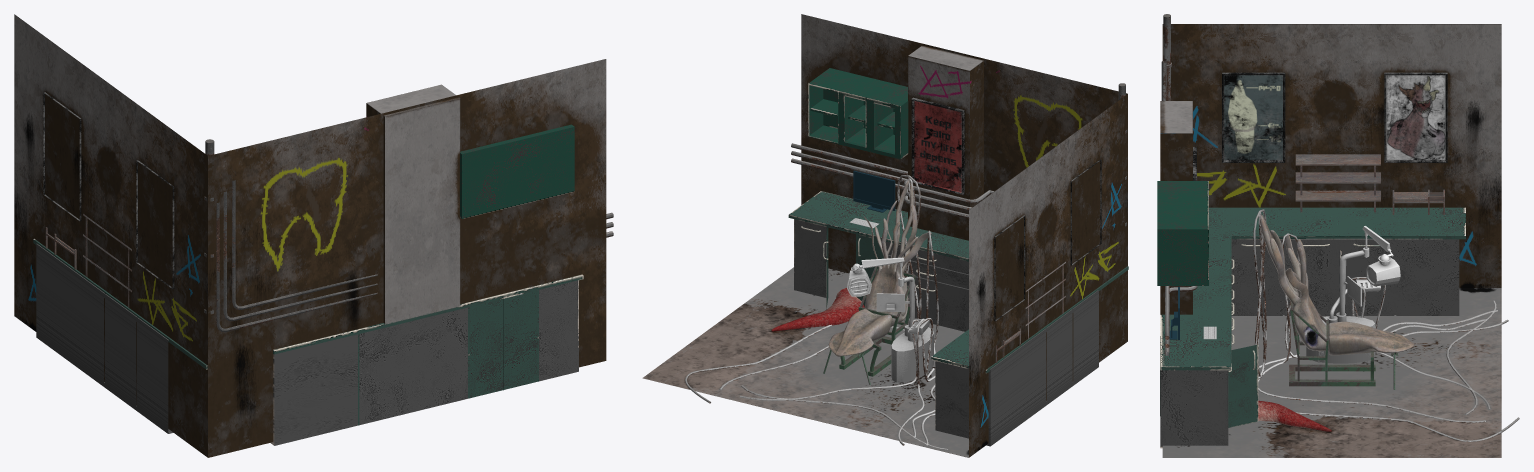
Rendered from Main room merged.fbx.
3 views of the same model, side by side, from view 1: azimuth 30°, elevation 25°; view 2: azimuth 150°, elevation 25°; view 3: azimuth 270°, elevation 25° (orthographic). The views are drawn at different scales.
Visible parts, largest first — view 1: Kasten.001; view 2: Kasten.001; view 3: Kasten.001.
Boxes of the visible parts, box(x1,y1,x2,y2) form: Kasten.001: box(14, 14, 613, 457); Kasten.001: box(642, 14, 1128, 457); Kasten.001: box(1157, 14, 1519, 457).
Bounding box in the file's own units: 362 × 294 × 318.
